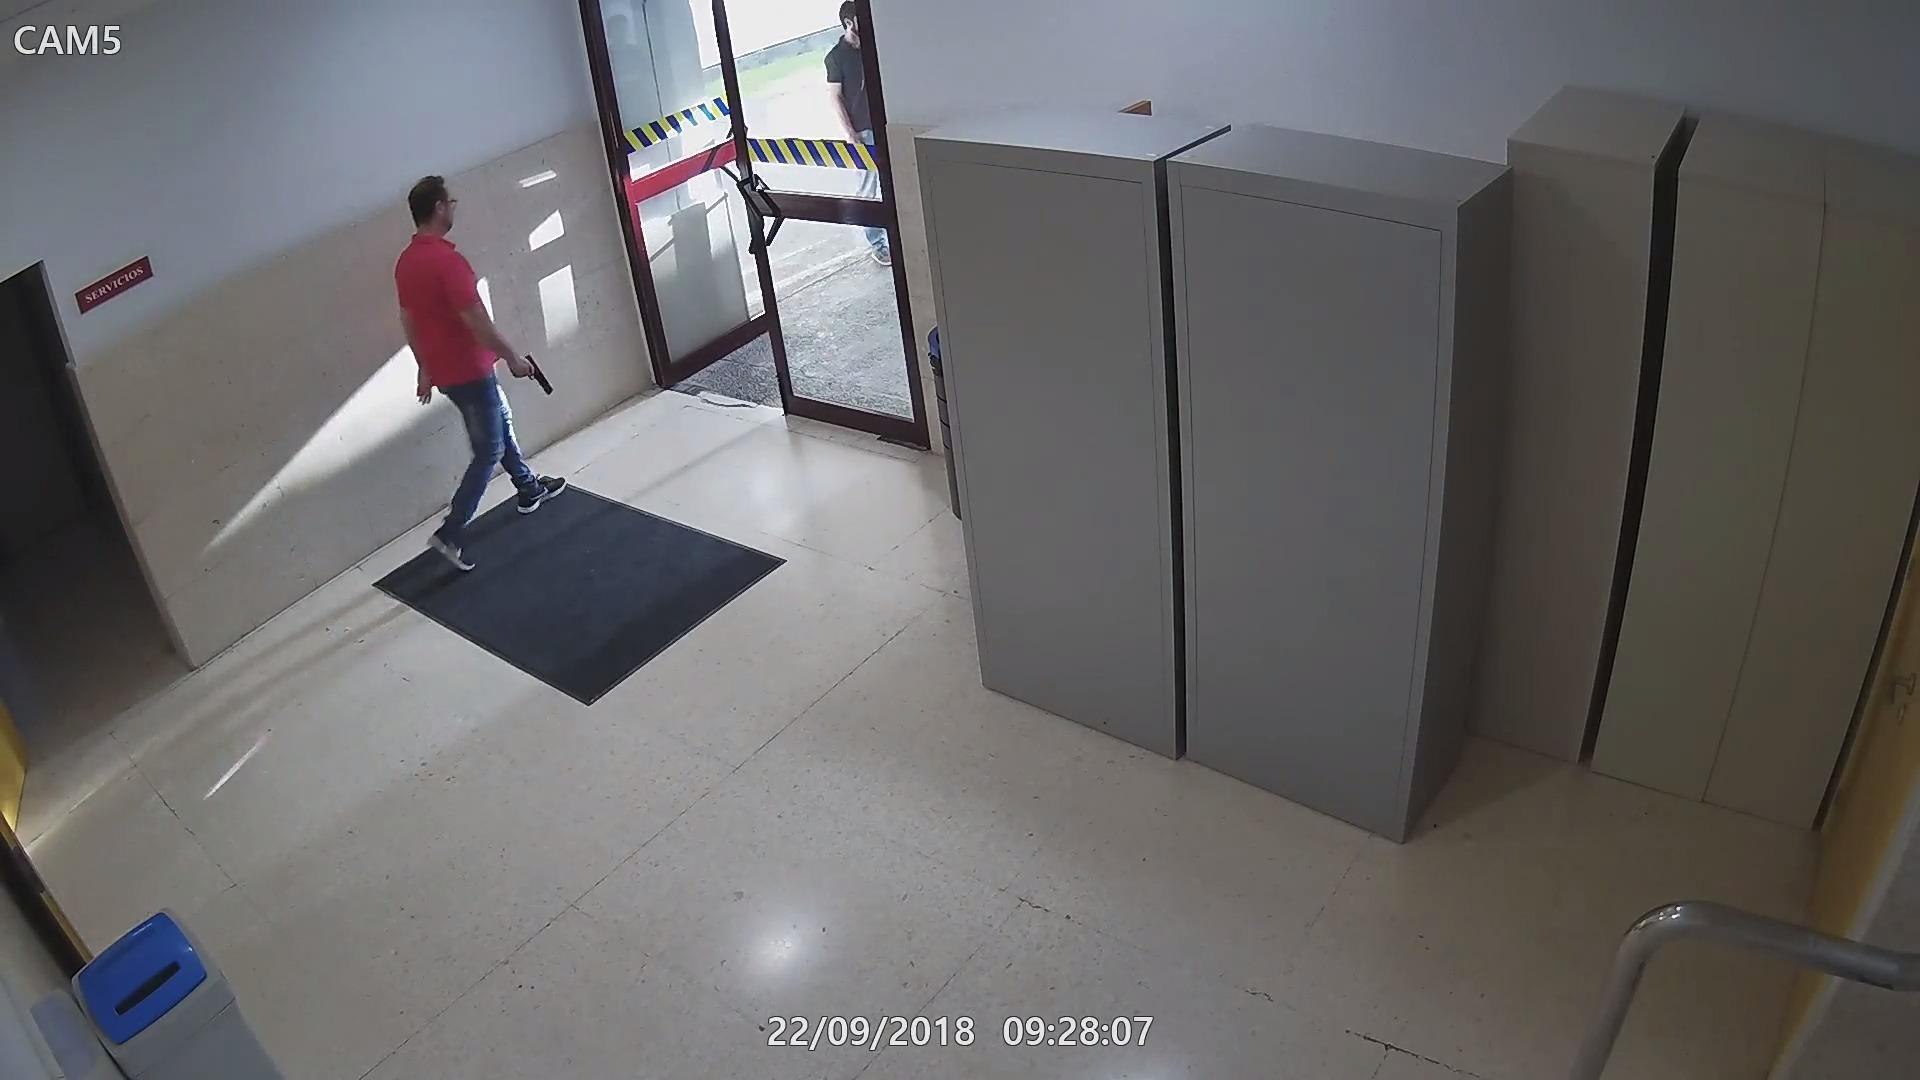Handgun: (501, 349, 554, 394)
